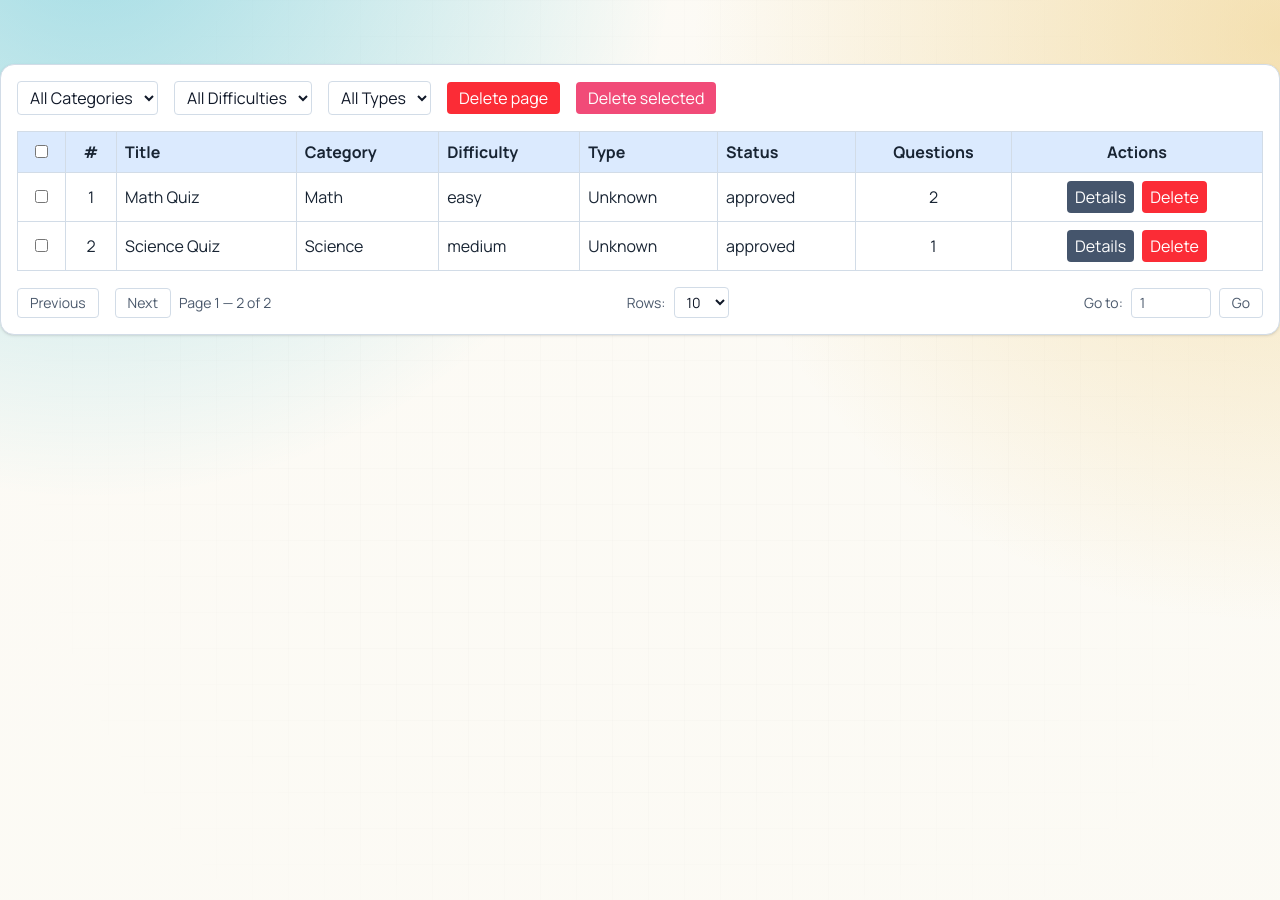
Scenario: QuizList › deletes selected quizzes
The width and height of the screenshot is (1280, 900).
Expected: the text "Math Quiz" is shown, [117,172,296,222]
Expected: the text "Science Quiz" is shown, [117,222,296,270]
Click the checkbox named "Select Math Quiz": (42, 196) [35,190,48,203]
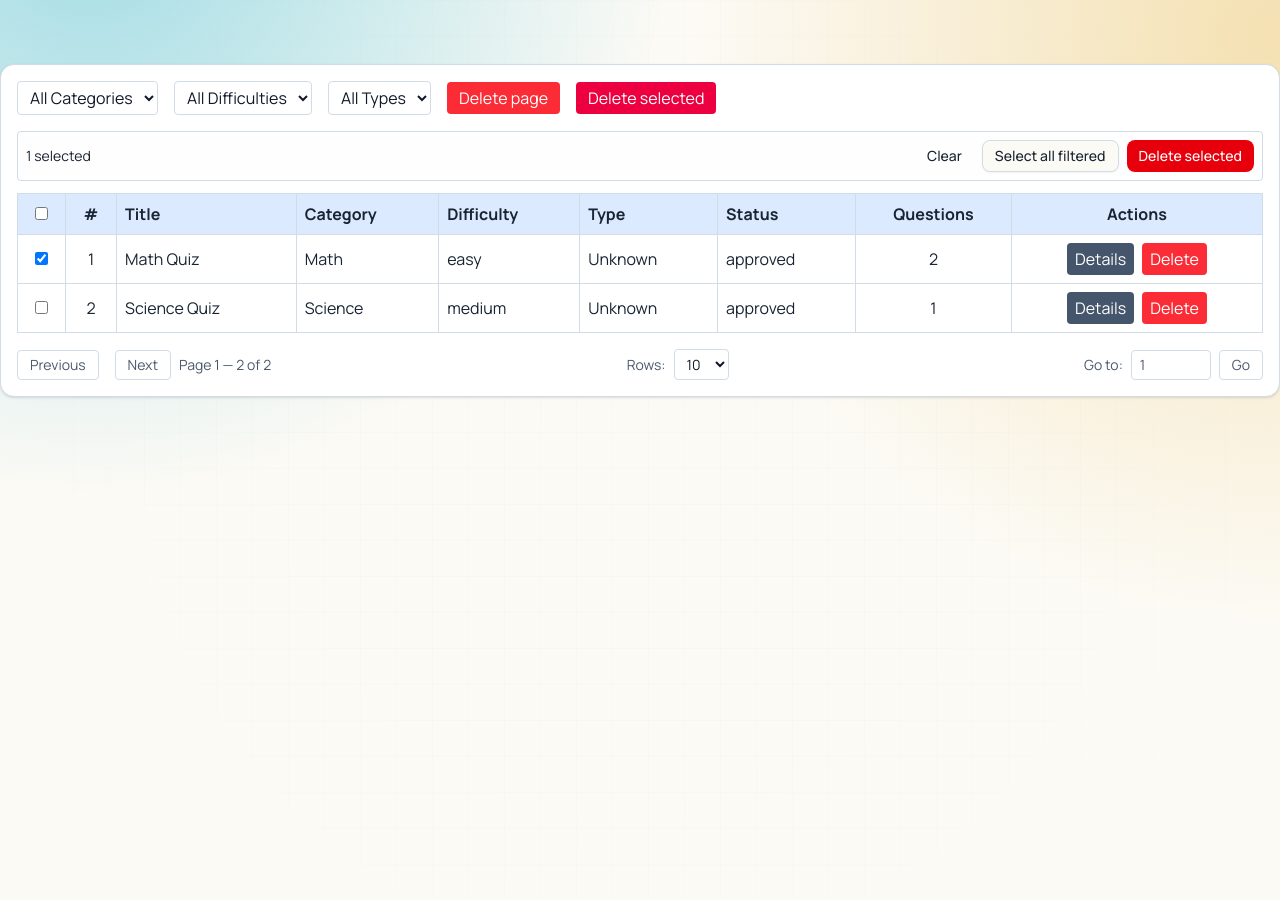
Click the 1st button "Delete selected": (646, 98) [576,82,716,114]
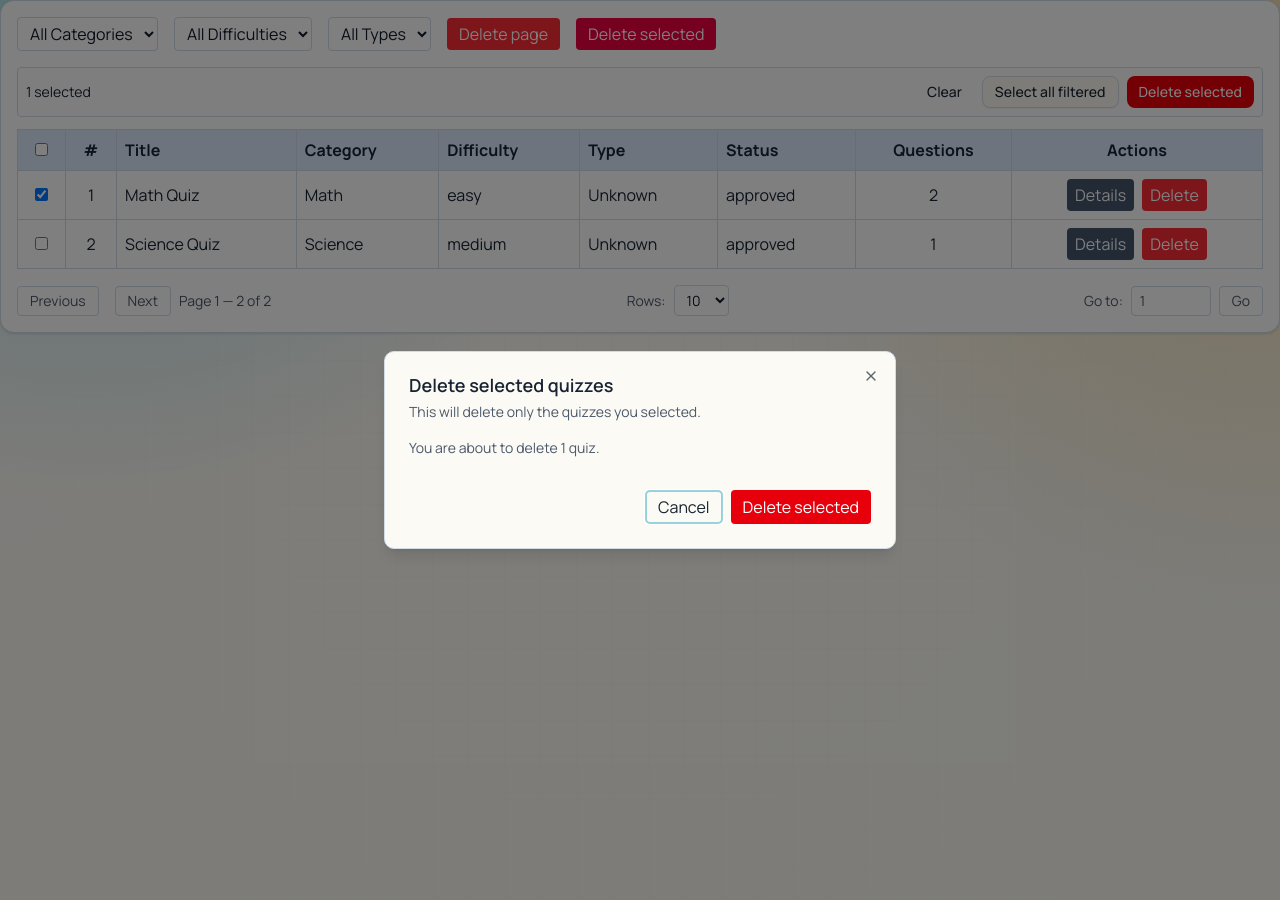
Click the button "Delete selected": (801, 507) [730,490,871,524]
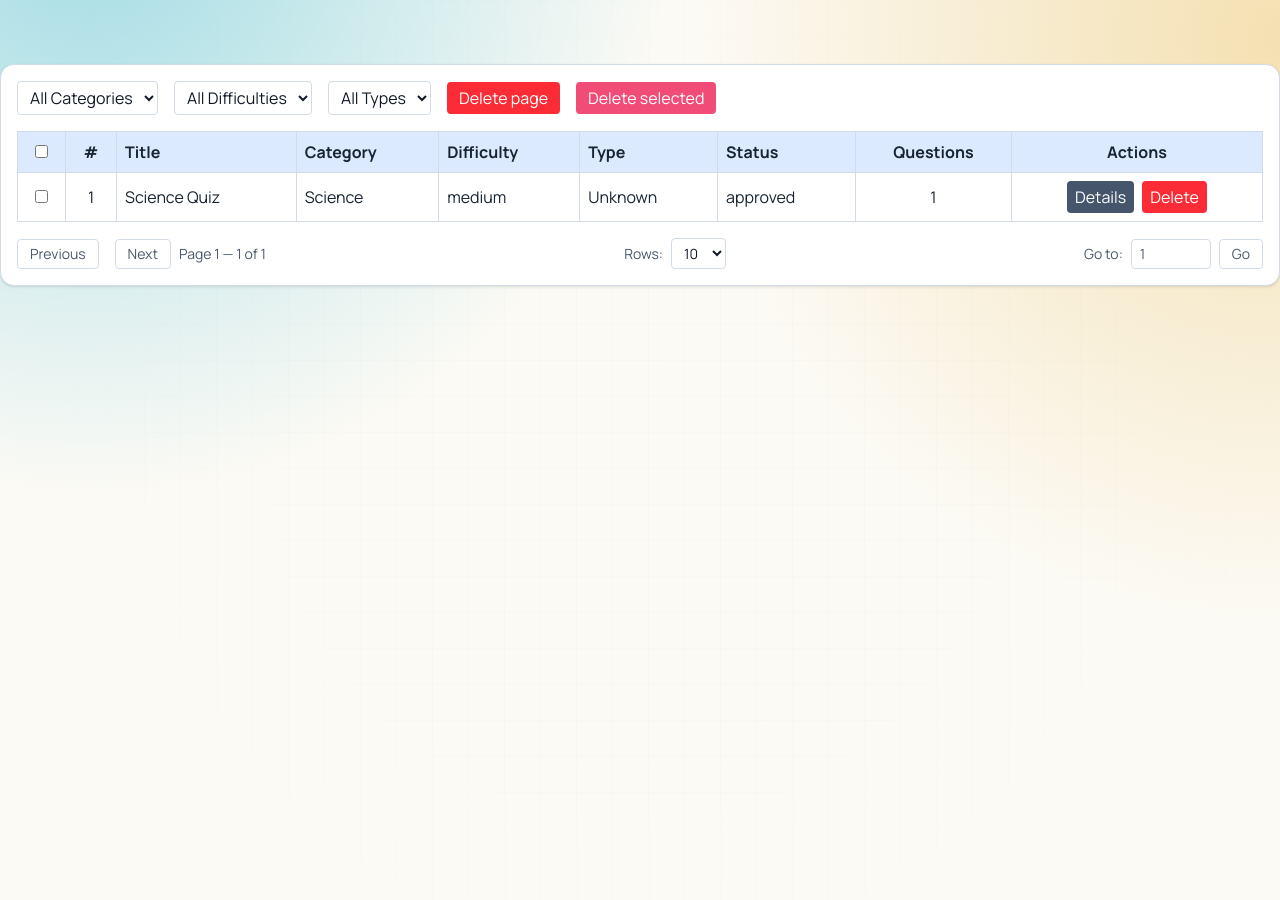
Expected: the text "Science Quiz" is shown, [117,172,296,222]
Result: the text "Math Quiz" is gone
